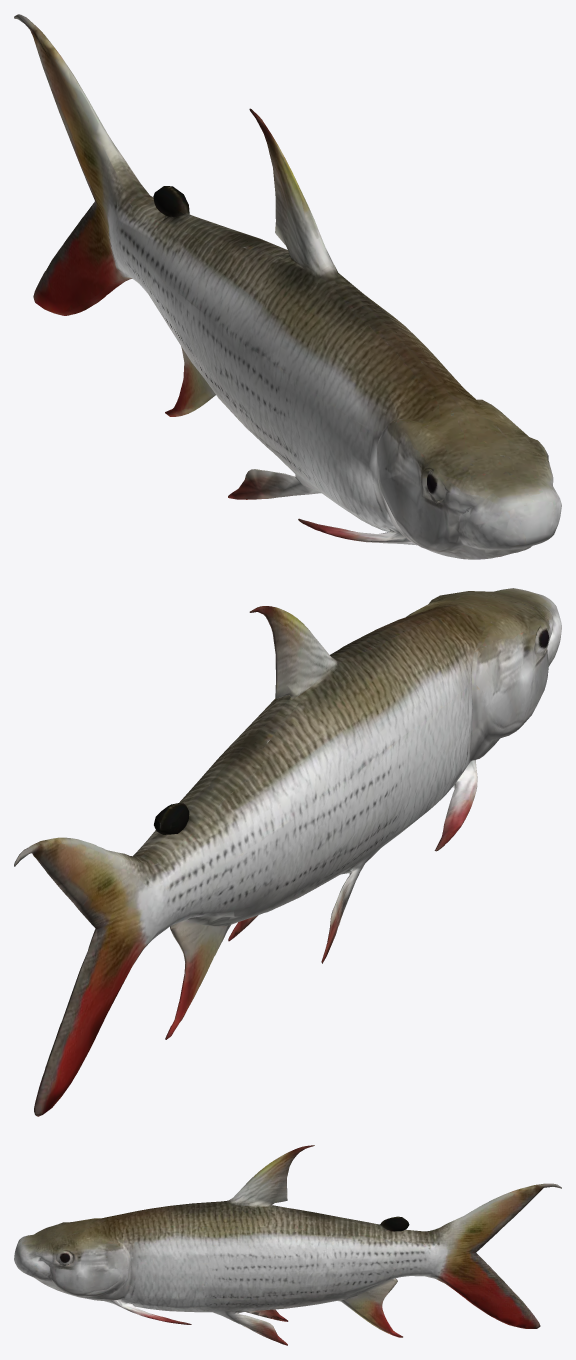
The model's file is tigerfish.glb.
The picture shows the model from 3 angles, top to bottom: view 1: azimuth 30°, elevation 25°; view 2: azimuth 150°, elevation 25°; view 3: azimuth 270°, elevation 25°; orthographic projection. The views are drawn at different scales.
Visible parts, largest first — view 1: geometry_0; view 2: geometry_0; view 3: geometry_0.
Part boxes in pixels (bbox=[...]): geometry_0: bbox=[14, 14, 561, 559]; geometry_0: bbox=[14, 588, 561, 1116]; geometry_0: bbox=[14, 1145, 561, 1345].
Size of the model in its own units: 0.1553 by 0.3879 by 1.
Materials: 1 (1 with a texture image).
